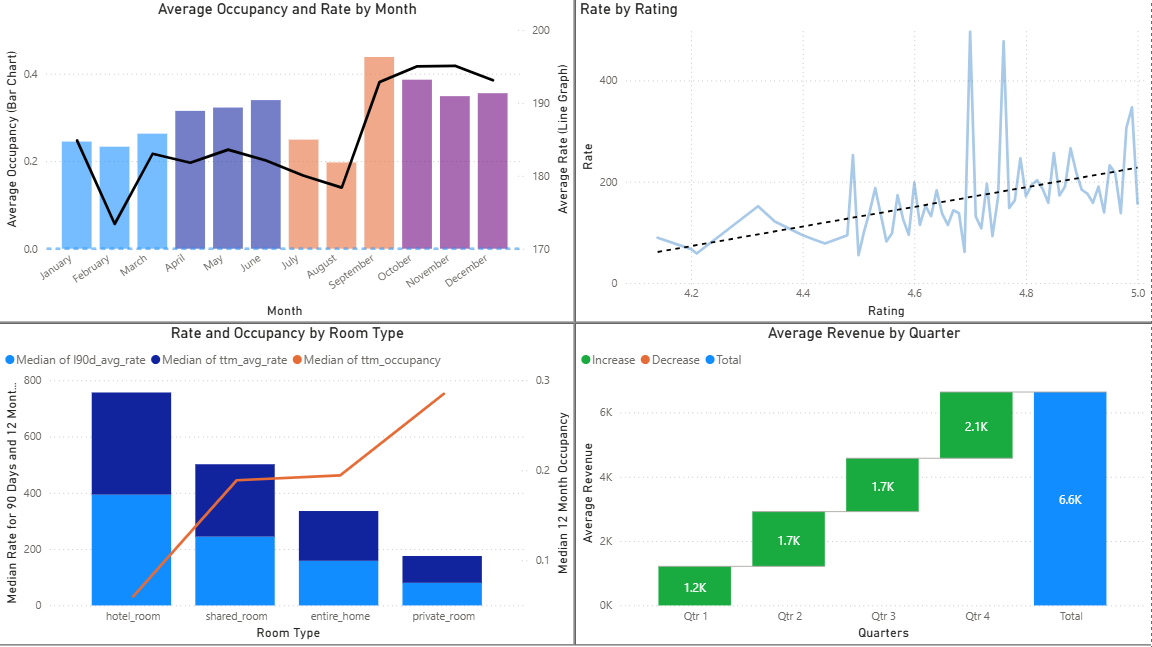

The dashboard page shown, as its layout file describes it:
{"tool":"powerbi","page":{"name":"Page 1","canvas":[1280,720],"ordinal":0},"visuals":[{"type":"lineStackedColumnComboChart","title":"Average Occupancy and Rate by Month","fields":{"Category":["Sheet1.date.Variation.Date Hierarchy.Month"],"Y":["Avg(Sheet1.occupancy)"],"Y2":["Avg(Sheet1.rate_avg)"],"Series":["Sheet1.date.Variation.Date Hierarchy.Quarter"]},"box":[0,0,639.4,359.5],"z":0},{"type":"waterfallChart","title":"Average Revenue by Quarter","fields":{"Category":["Sheet1.date.Variation.Date Hierarchy.Quarter"],"Y":["Avg(Airbnb Data Past 12 Months.revenue)"]},"box":[639.4,359.5,641.1,357.8],"z":1000},{"type":"lineStackedColumnComboChart","title":"Rate and Revenue by Room Type","fields":{"Category":["Airbnb Data Listing Data (2).room_type"],"Y":["Median(Airbnb Data Listing Data (2).l90d_avg_rate)","Median(Airbnb Data Listing Data (2).ttm_avg_rate)"],"Y2":["Median(Airbnb Data Listing Data (2).ttm_revenue)"]},"box":[0,359.5,639.4,357.8],"z":2000},{"type":"lineChart","title":"Rate by Rating","fields":{"Category":["Airbnb Data Listing Data (2).rating_overall"],"Y":["Avg(Airbnb Data Listing Data (2).ttm_avg_rate)"]},"box":[639.4,0,641.1,359.5],"z":3000}]}

Visuals, with their boxes in screenshot pixels (x1, y1, x2, y2), scaled from the page's 1280x720 canvas onto the 1152x647 screenshot:
"Average Occupancy and Rate by Month" lineStackedColumnComboChart: bbox=[0, 0, 575, 323]
"Average Revenue by Quarter" waterfallChart: bbox=[575, 323, 1151, 645]
"Rate and Revenue by Room Type" lineStackedColumnComboChart: bbox=[0, 323, 575, 645]
"Rate by Rating" lineChart: bbox=[575, 0, 1151, 323]
